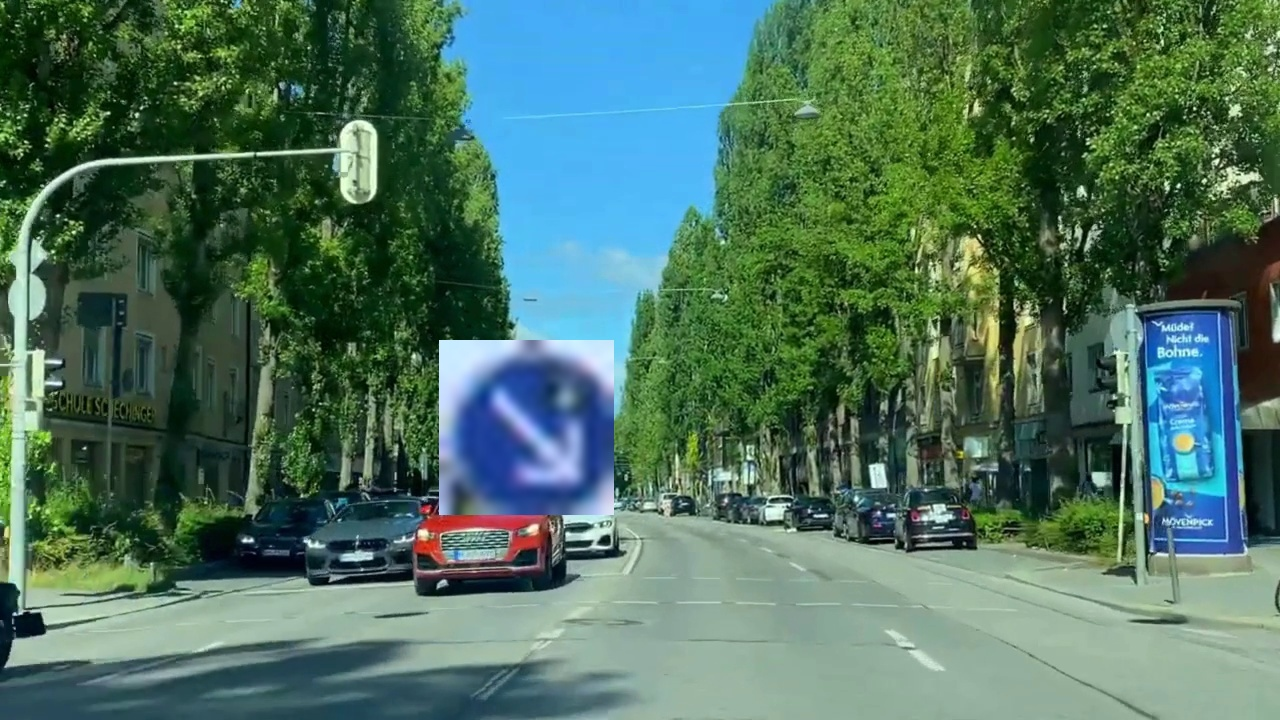Keep right: (439, 340, 614, 515)
